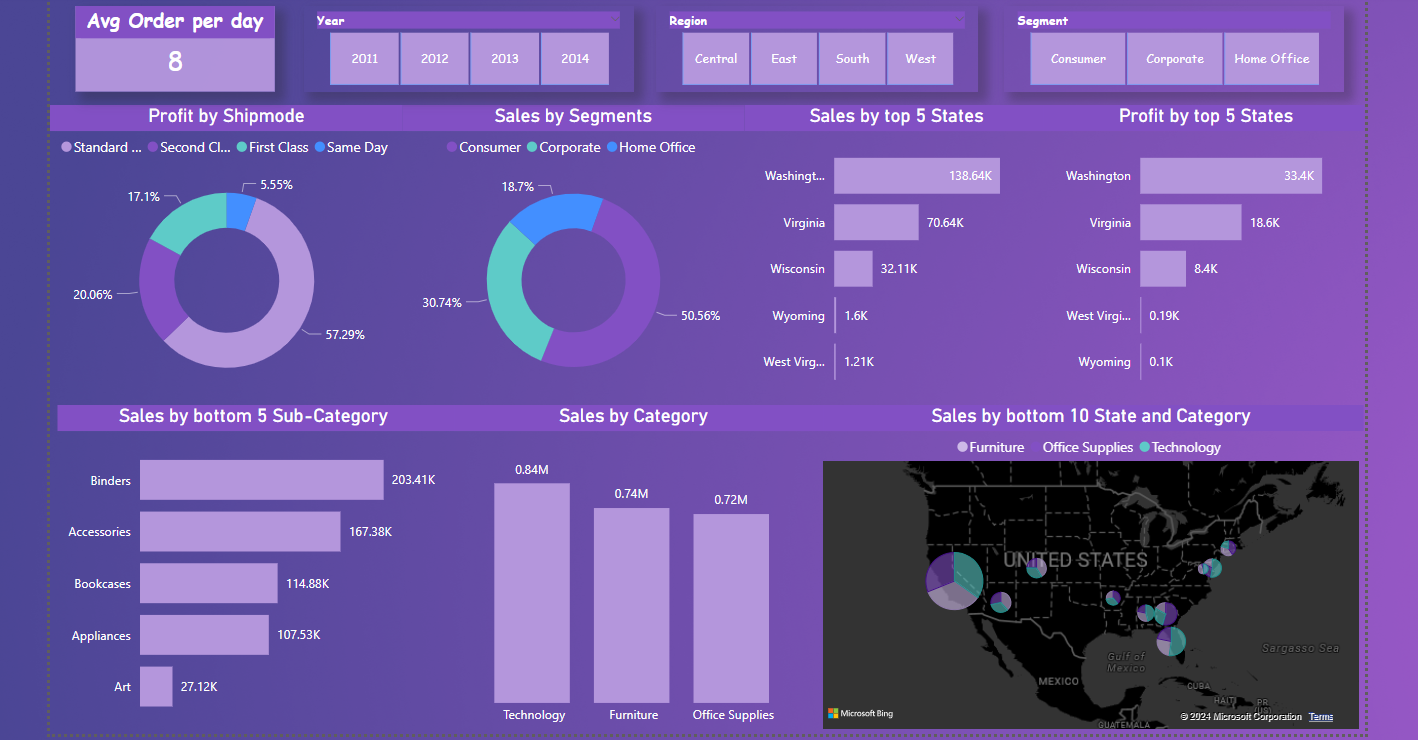

What the dashboard file says about the page in this screenshot:
{"tool":"powerbi","page":{"name":"Dashboard 2","canvas":[1280,720],"ordinal":1},"visuals":[{"type":"donutChart","title":"Sales by Segments","fields":{"Category":["Data.Segment"],"Y":["Sum(Data.Sales)"]},"box":[343.4,108.7,332.3,291.4],"z":0},{"type":"clusteredBarChart","title":"Sales by bottom 5 Sub-Category","fields":{"Y":["Sum(Data.Sales)"],"Category":["Data.Sub-Category"]},"box":[7.9,400.1,381.2,319.7],"z":1000},{"type":"columnChart","title":" Sales by Category","fields":{"Y":["Sum(Data.Sales)"],"Category":["Data.Category"]},"box":[389,400.1,359.1,319.7],"z":2000},{"type":"map","title":" Sales by bottom 10 State and Category","fields":{"Category":["Data.State"],"Size":["Sum(Data.Sales)"],"Series":["Data.Category"]},"box":[747.7,400.2,531.6,319.8],"z":3000},{"type":"slicer","fields":{"Values":["Data.Year"]},"box":[247.3,11,321.3,83.5],"z":4000},{"type":"slicer","fields":{"Values":["Data.Region"]},"box":[590.7,11,313.4,83.5],"z":5000},{"type":"slicer","fields":{"Values":["Data.Segment"]},"box":[928.2,10.6,330.2,83.5],"z":6000},{"type":"donutChart","title":"Profit by Shipmode","fields":{"Category":["Data.Ship Mode"],"Y":["Sum(Data.Profit)"]},"box":[0,108.7,343.4,291.4],"z":7000},{"type":"card","title":"Avg Order per day","fields":{"Values":["Count(Data.Avg del)"]},"box":[25.2,11,193.7,83.5],"z":8000},{"type":"clusteredBarChart","title":"Sales by top 5 States","fields":{"Y":["Sum(Data.Sales)"],"Category":["Data.State"]},"box":[675.7,108.7,296.1,291.4],"z":9000},{"type":"clusteredBarChart","title":"Profit by top 5 States","fields":{"Y":["Sum(Data.Profit)"],"Category":["Data.State"]},"box":[971.8,108.7,308.7,291.4],"z":10000}]}

Visuals, with their boxes on the page's 1280x720 design canvas (x1, y1, x2, y2). These are canvas units, not pixel positions in the 1418x740 screenshot, which may show the page scaled, cropped or inside an application window:
"Sales by Segments" donutChart: x1=343 y1=109 x2=676 y2=400
"Sales by bottom 5 Sub-Category" clusteredBarChart: x1=8 y1=400 x2=389 y2=720
" Sales by Category" columnChart: x1=389 y1=400 x2=748 y2=720
" Sales by bottom 10 State and Category" map: x1=748 y1=400 x2=1279 y2=720
slicer - Data.Year: x1=247 y1=11 x2=569 y2=94
slicer - Data.Region: x1=591 y1=11 x2=904 y2=94
slicer - Data.Segment: x1=928 y1=11 x2=1258 y2=94
"Profit by Shipmode" donutChart: x1=0 y1=109 x2=343 y2=400
"Avg Order per day" card: x1=25 y1=11 x2=219 y2=94
"Sales by top 5 States" clusteredBarChart: x1=676 y1=109 x2=972 y2=400
"Profit by top 5 States" clusteredBarChart: x1=972 y1=109 x2=1280 y2=400
